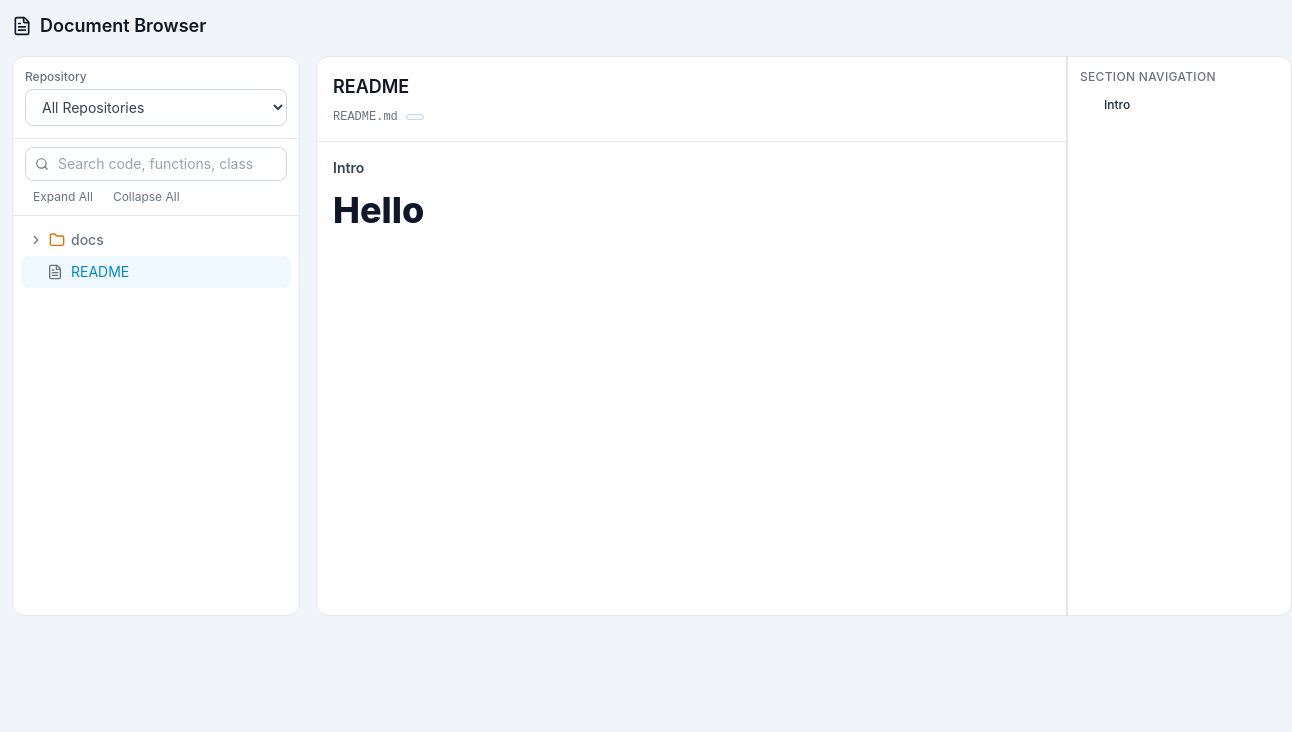
Documents › folder toggle buttons expose aria-expanded
The image size is (1292, 732).
Click the button "docs": (87,240) [21,224,291,256]
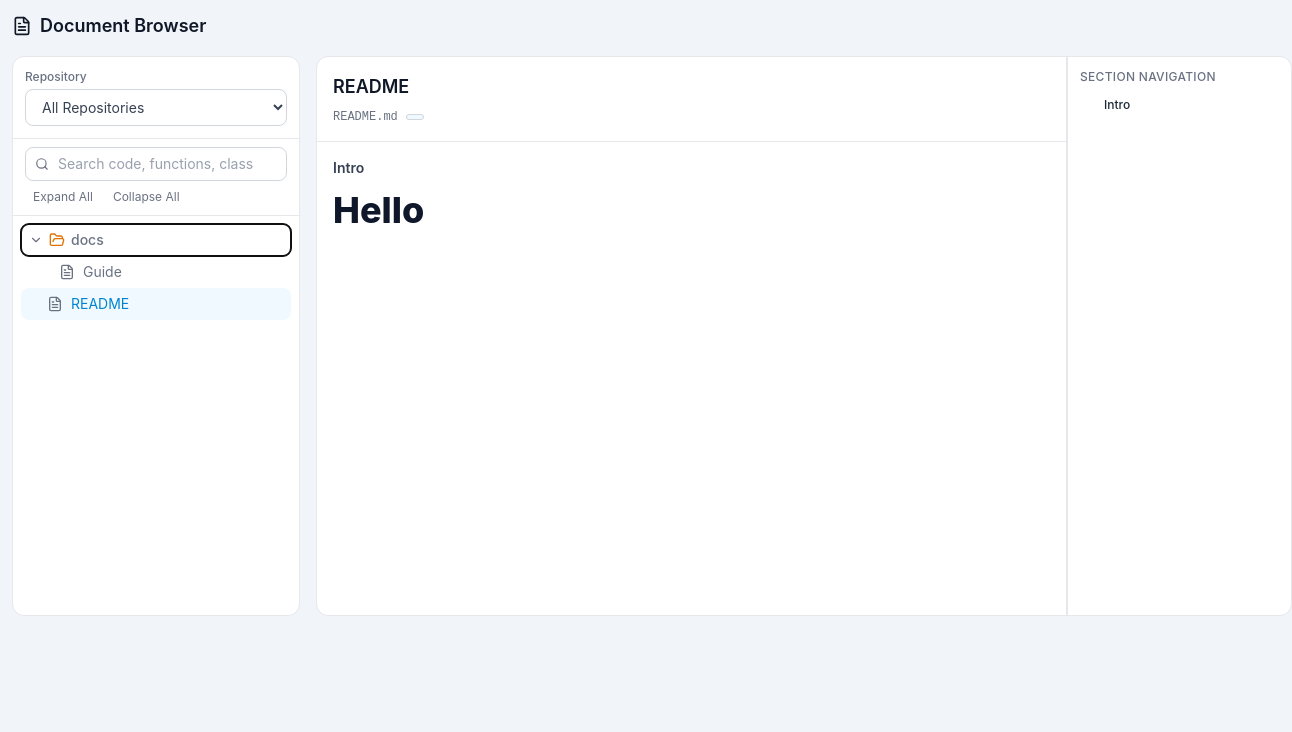
Now the button "docs" is expanded, box [21,224,291,256]
